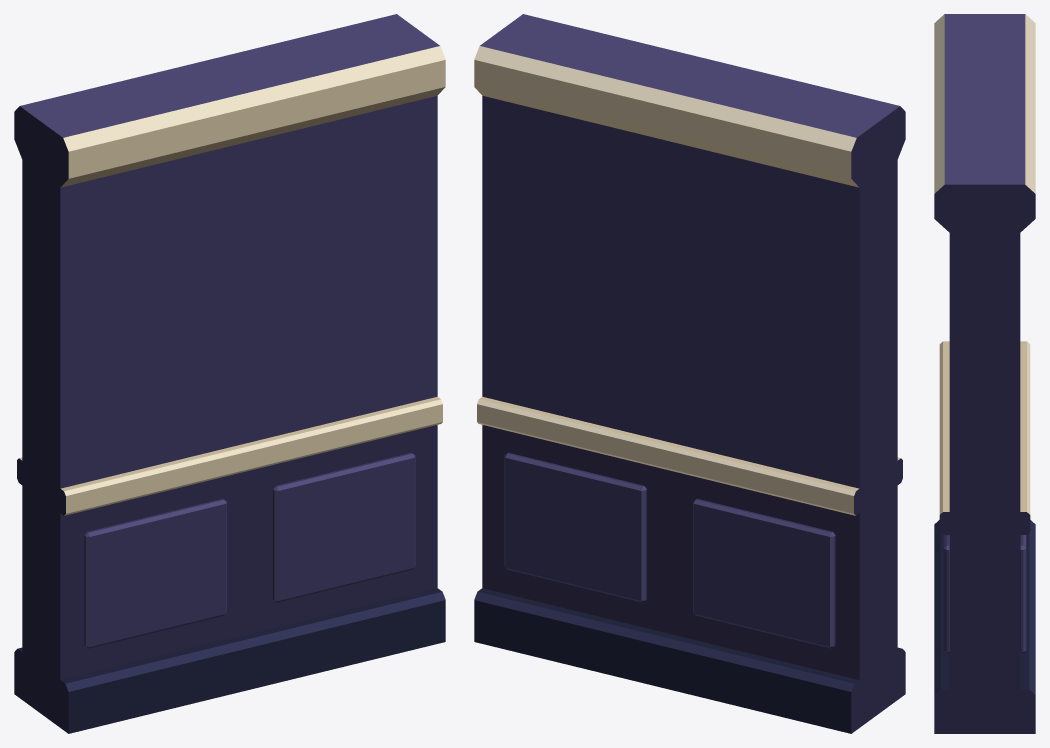
Rendered from Wall_8x12.fbx.
3 renders of one model, left to right at view 1: azimuth 30°, elevation 25°; view 2: azimuth 150°, elevation 25°; view 3: azimuth 270°, elevation 25°, orthographic. The views are drawn at different scales.
Parts seen in each view (by area): view 1: Wall_8x12; view 2: Wall_8x12; view 3: Wall_8x12.
Part boxes in pixels (x1,y1,x2,y2): Wall_8x12: (14,14,445,733); Wall_8x12: (474,14,905,733); Wall_8x12: (934,14,1035,733).
Bounding box in the file's own units: 8 × 12 × 2.
1 material, 1 textured.
